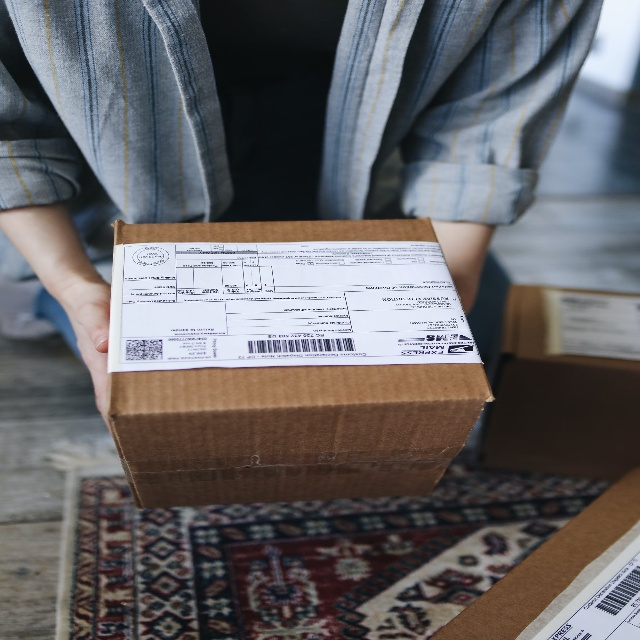Sin_guantes: (67, 275, 115, 441)
